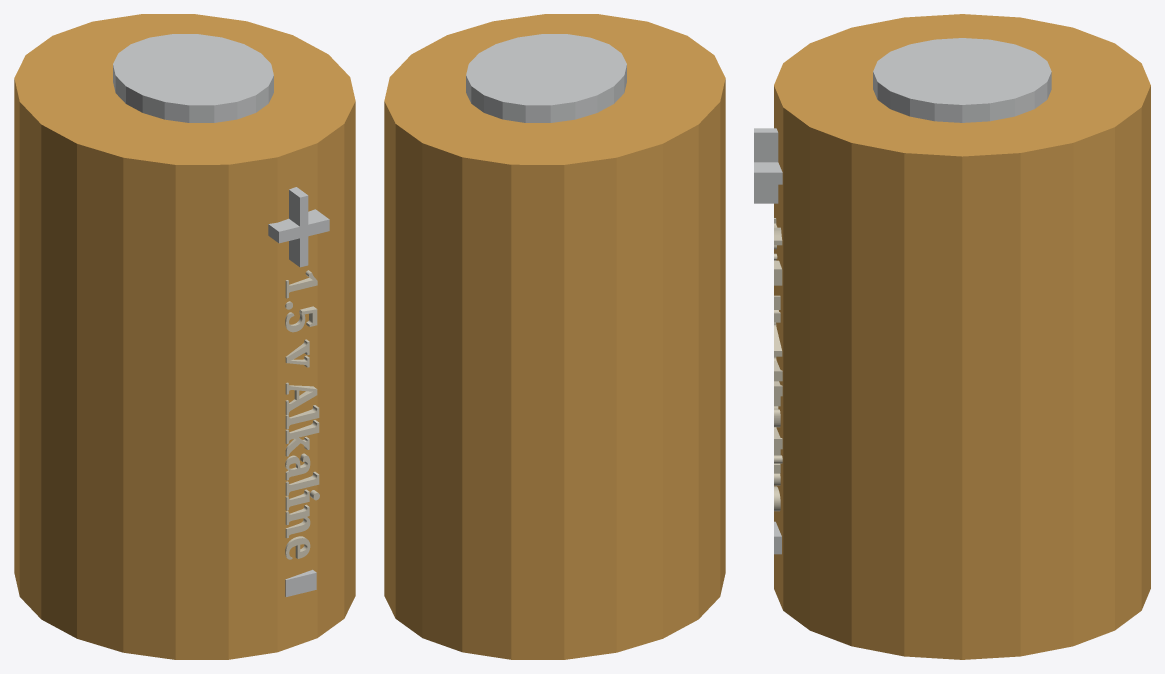
File: battery.glb
3 renders of one model, left to right at view 1: azimuth 30°, elevation 25°; view 2: azimuth 150°, elevation 25°; view 3: azimuth 270°, elevation 25°, orthographic.
Visible parts, largest first — view 1: Mesh_Mesh_head_geo.001_lambert2SG.001; view 2: Mesh_Mesh_head_geo.001_lambert2SG.001; view 3: Mesh_Mesh_head_geo.001_lambert2SG.001.
Boxes of the visible parts, x1,y1,x2,y2 form: Mesh_Mesh_head_geo.001_lambert2SG.001: [14, 14, 355, 659]; Mesh_Mesh_head_geo.001_lambert2SG.001: [384, 14, 725, 659]; Mesh_Mesh_head_geo.001_lambert2SG.001: [754, 14, 1150, 659].
Size of the model in its own units: 17 by 29 by 20.
